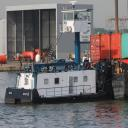tugboat: (4, 1, 111, 108)
